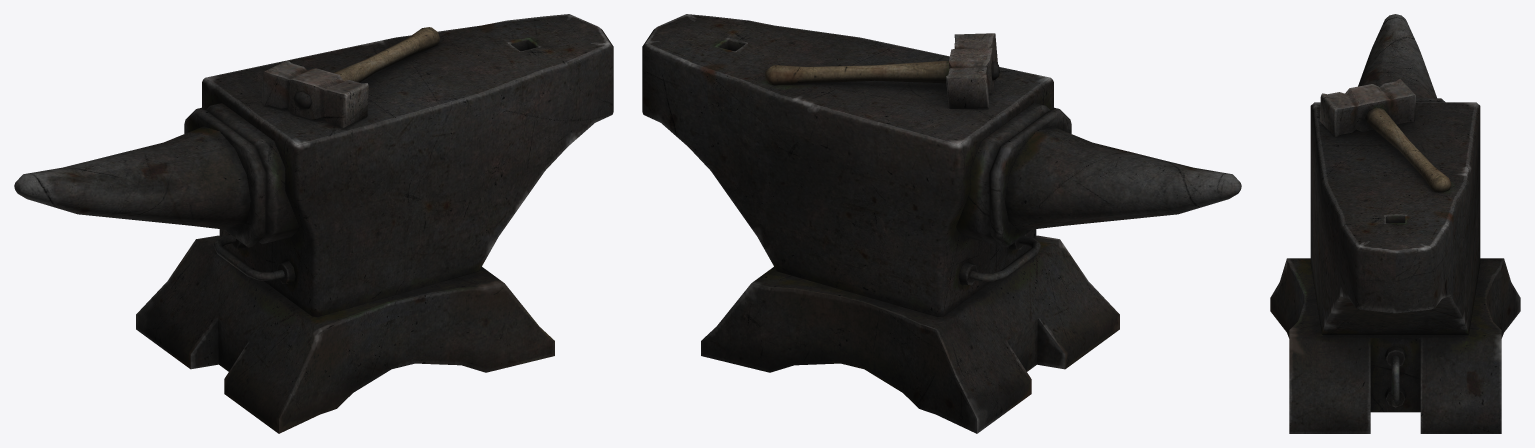
Rendered from Anvil.fbx.
3 renders of one model, left to right at view 1: azimuth 30°, elevation 25°; view 2: azimuth 150°, elevation 25°; view 3: azimuth 270°, elevation 25°, orthographic. The views are drawn at different scales.
Parts seen in each view (by area): view 1: Anvil; view 2: Anvil; view 3: Anvil.
Boxes of the visible parts, x1,y1,x2,y2 form: Anvil: (14,14,613,433); Anvil: (642,14,1241,433); Anvil: (1270,14,1520,433).
Bounding box in the file's own units: 1.59 × 0.7649 × 0.6718.
